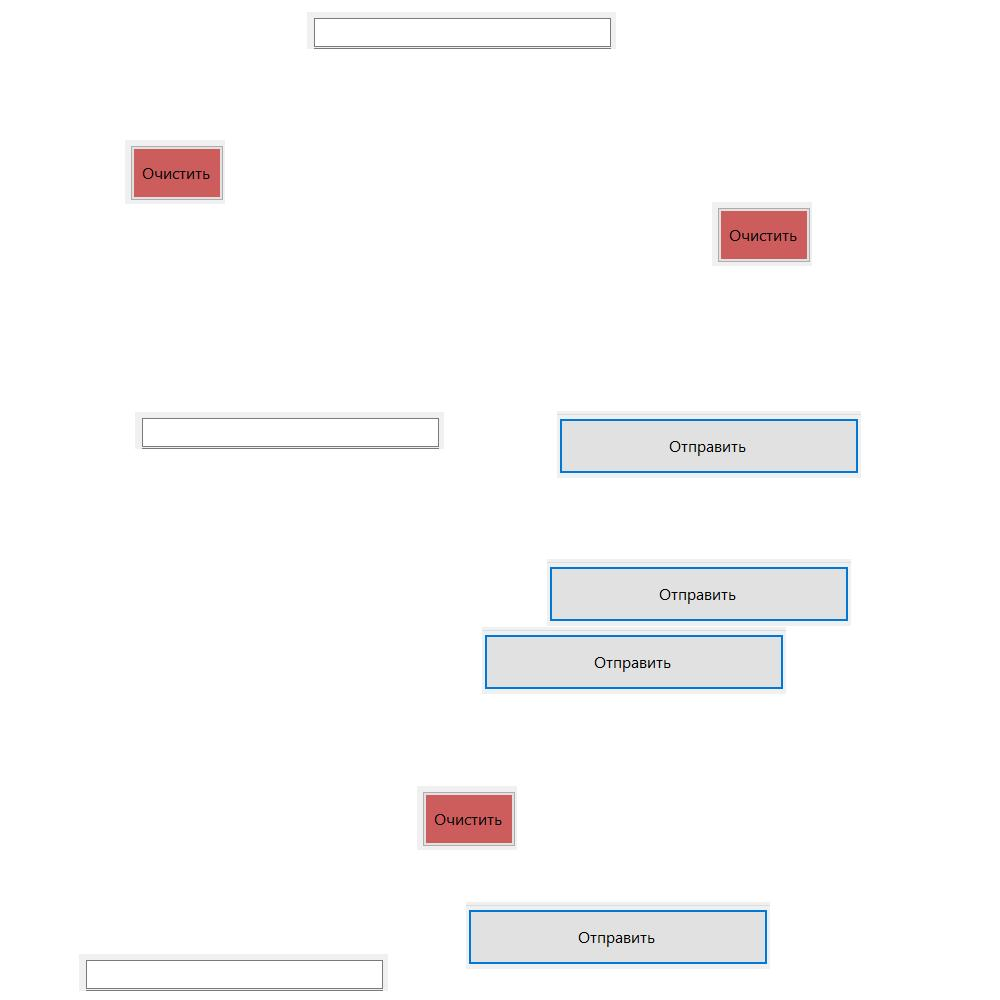Button: (557, 411, 861, 478), (466, 902, 770, 969), (547, 559, 851, 626), (482, 627, 786, 694), (417, 786, 517, 850), (125, 140, 225, 204), (712, 202, 812, 266)
EditText-: (79, 954, 388, 991), (307, 12, 616, 49), (135, 412, 444, 449)
